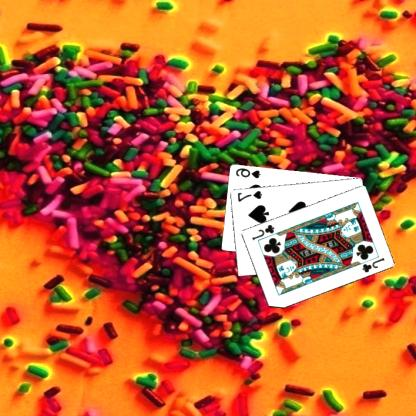6S: (235, 165, 263, 179)
7S: (236, 188, 265, 203)
JC: (251, 221, 277, 242), (361, 254, 387, 274)
